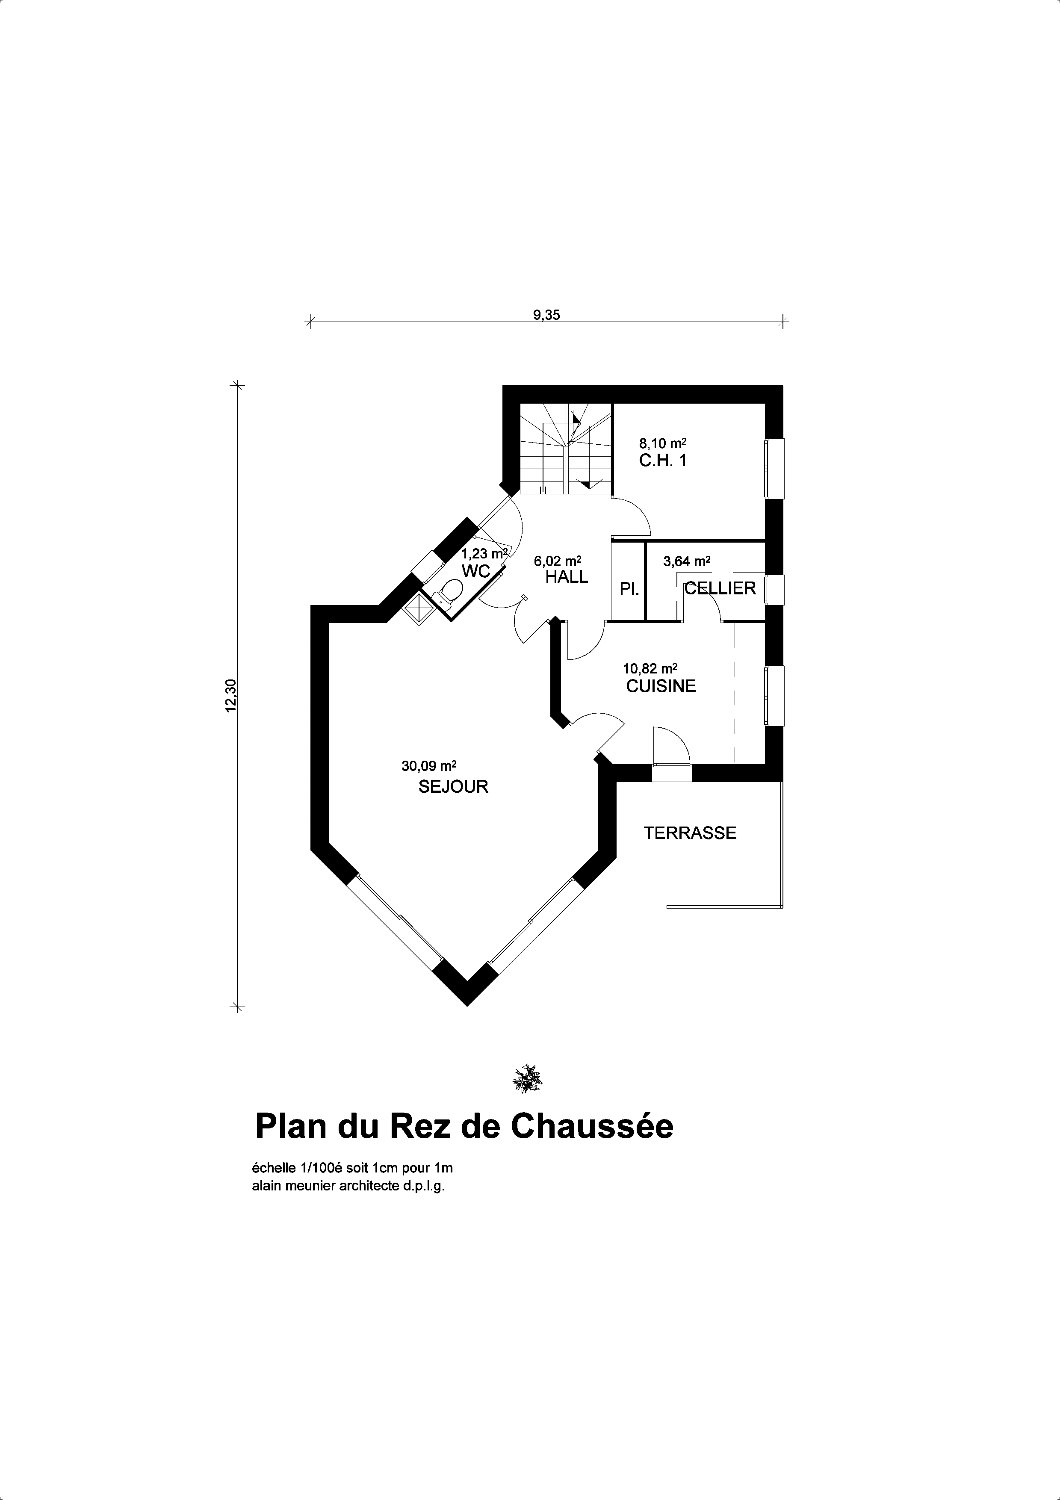door: (478, 572, 551, 644), (477, 494, 524, 558), (568, 712, 626, 753), (610, 495, 652, 539), (680, 583, 724, 623), (650, 726, 692, 767), (566, 620, 607, 661), (471, 534, 512, 569)
sliding door: (484, 875, 587, 978), (345, 870, 447, 972)
toilet: (430, 579, 463, 614)
window: (763, 436, 786, 500), (410, 549, 449, 586), (763, 664, 785, 728), (763, 575, 785, 607)
